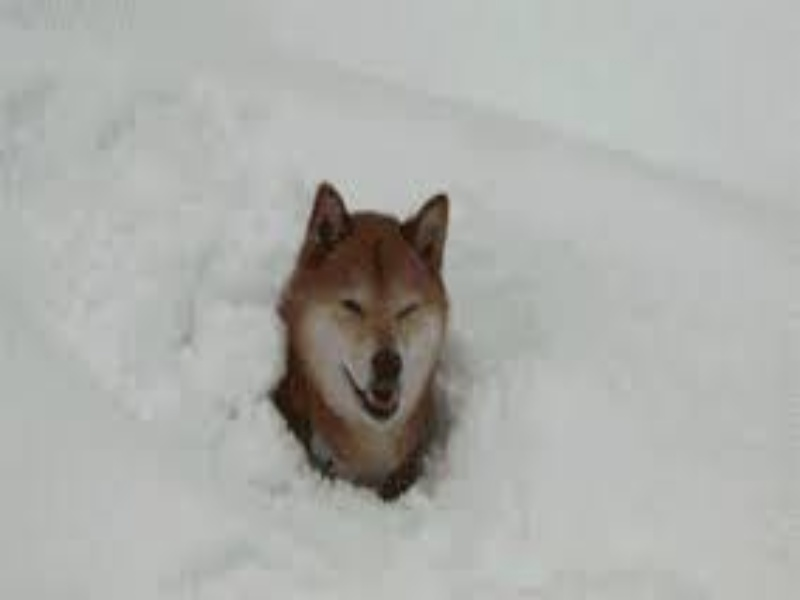dog: (271, 175, 464, 508)
